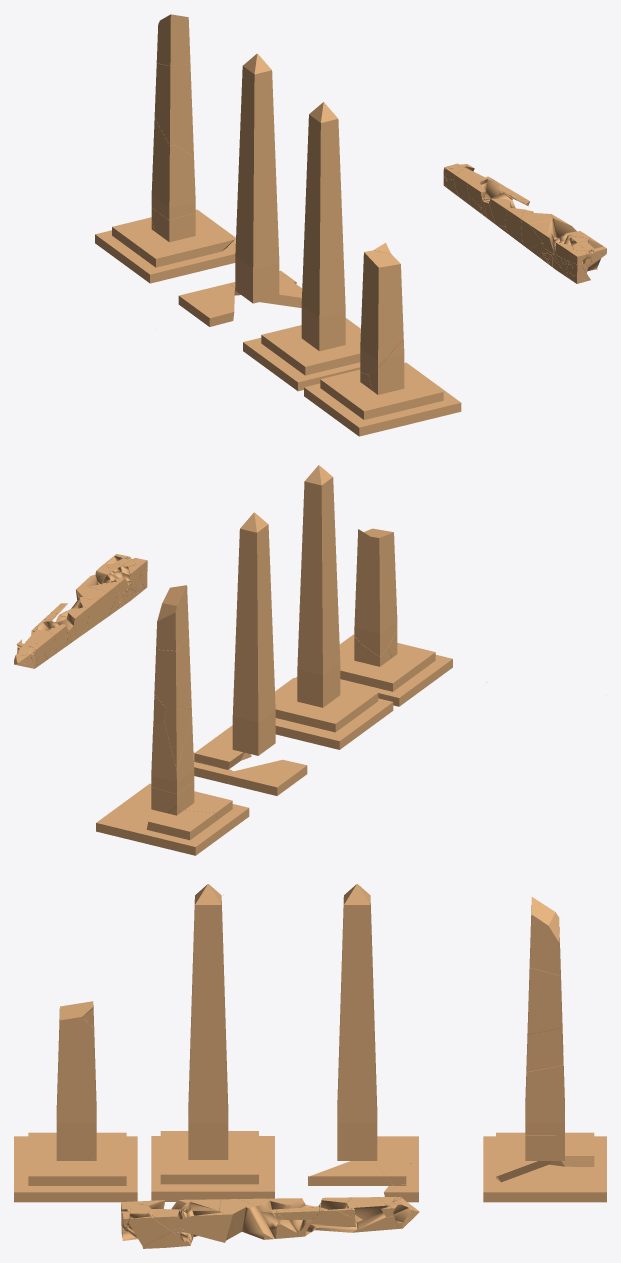
File: obelischiOK.fbx
3 views of the same model, one above another, from view 1: azimuth 30°, elevation 25°; view 2: azimuth 150°, elevation 25°; view 3: azimuth 270°, elevation 25° (orthographic). The views are drawn at different scales.
Visible parts, largest first — view 1: Cube.002, Cube.003, Cube.002_cell, Cube.005, Cube.004, Cube.001, Cube.007, Cube.003_cell.009, Cube.003_cell.003, Cube.005_cell.001, Cube.006, Cube.004_cell.001 (+7 smaller); view 2: Cube.002, Cube.003, Cube.002_cell, Cube.004, Cube.007, Cube.005, Cube.003_cell.003, Cube.006, Cube.003_cell.009, Cube.004_cell.001, Cube.003_cell.008, Cube.001 (+8 smaller); view 3: Cube.002, Cube.003, Cube.002_cell, Cube.005, Cube.007, Cube.001, Cube.006, Cube.003_cell.003, Cube.004_cell.005, Cube.004, Cube.003_cell.009, Cube.003_cell.008 (+18 smaller).
Boxes of the visible parts, left/top/right/bottom form: Cube.002: left=301, top=102, right=345, bottom=351; Cube.003: left=235, top=66, right=279, bottom=303; Cube.002_cell: left=360, top=250, right=403, bottom=374; Cube.005: left=320, top=363, right=443, bottom=419; Cube.004: left=95, top=209, right=235, bottom=283; Cube.001: left=304, top=362, right=461, bottom=436; Cube.007: left=261, top=319, right=360, bottom=375; Cube.003_cell.009: left=154, top=63, right=192, bottom=146; Cube.003_cell.003: left=151, top=145, right=195, bottom=220; Cube.005_cell.001: left=138, top=233, right=234, bottom=267; Cube.006: left=243, top=318, right=360, bottom=391; Cube.004_cell.001: left=178, top=283, right=234, bottom=326; Cube.002: left=297, top=465, right=340, bottom=707; Cube.003: left=232, top=520, right=275, bottom=755; Cube.002_cell: left=354, top=528, right=397, bottom=656; Cube.004: left=96, top=790, right=248, bottom=855; Cube.007: left=275, top=677, right=378, bottom=732; Cube.005: left=339, top=636, right=435, bottom=691; Cube.003_cell.003: left=151, top=717, right=194, bottom=793; Cube.006: left=275, top=678, right=393, bottom=749; Cube.003_cell.009: left=154, top=634, right=191, bottom=710; Cube.004_cell.001: left=228, top=759, right=307, bottom=795; Cube.003_cell.008: left=156, top=585, right=188, bottom=650; Cube.001: left=339, top=634, right=452, bottom=706; Cube.002: left=188, top=884, right=228, bottom=1159; Cube.003: left=337, top=893, right=377, bottom=1160; Cube.002_cell: left=56, top=1001, right=96, bottom=1132; Cube.005: left=28, top=1132, right=126, bottom=1185; Cube.007: left=160, top=1131, right=258, bottom=1184; Cube.001: left=14, top=1136, right=137, bottom=1202; Cube.006: left=151, top=1136, right=274, bottom=1201; Cube.003_cell.003: left=525, top=1045, right=564, bottom=1134; Cube.004_cell.005: left=495, top=1164, right=590, bottom=1202; Cube.004: left=483, top=1136, right=606, bottom=1202; Cube.003_cell.009: left=527, top=959, right=562, bottom=1039; Cube.003_cell.008: left=530, top=897, right=560, bottom=975.
Bounding box in the file's own units: 805 × 363 × 671.
